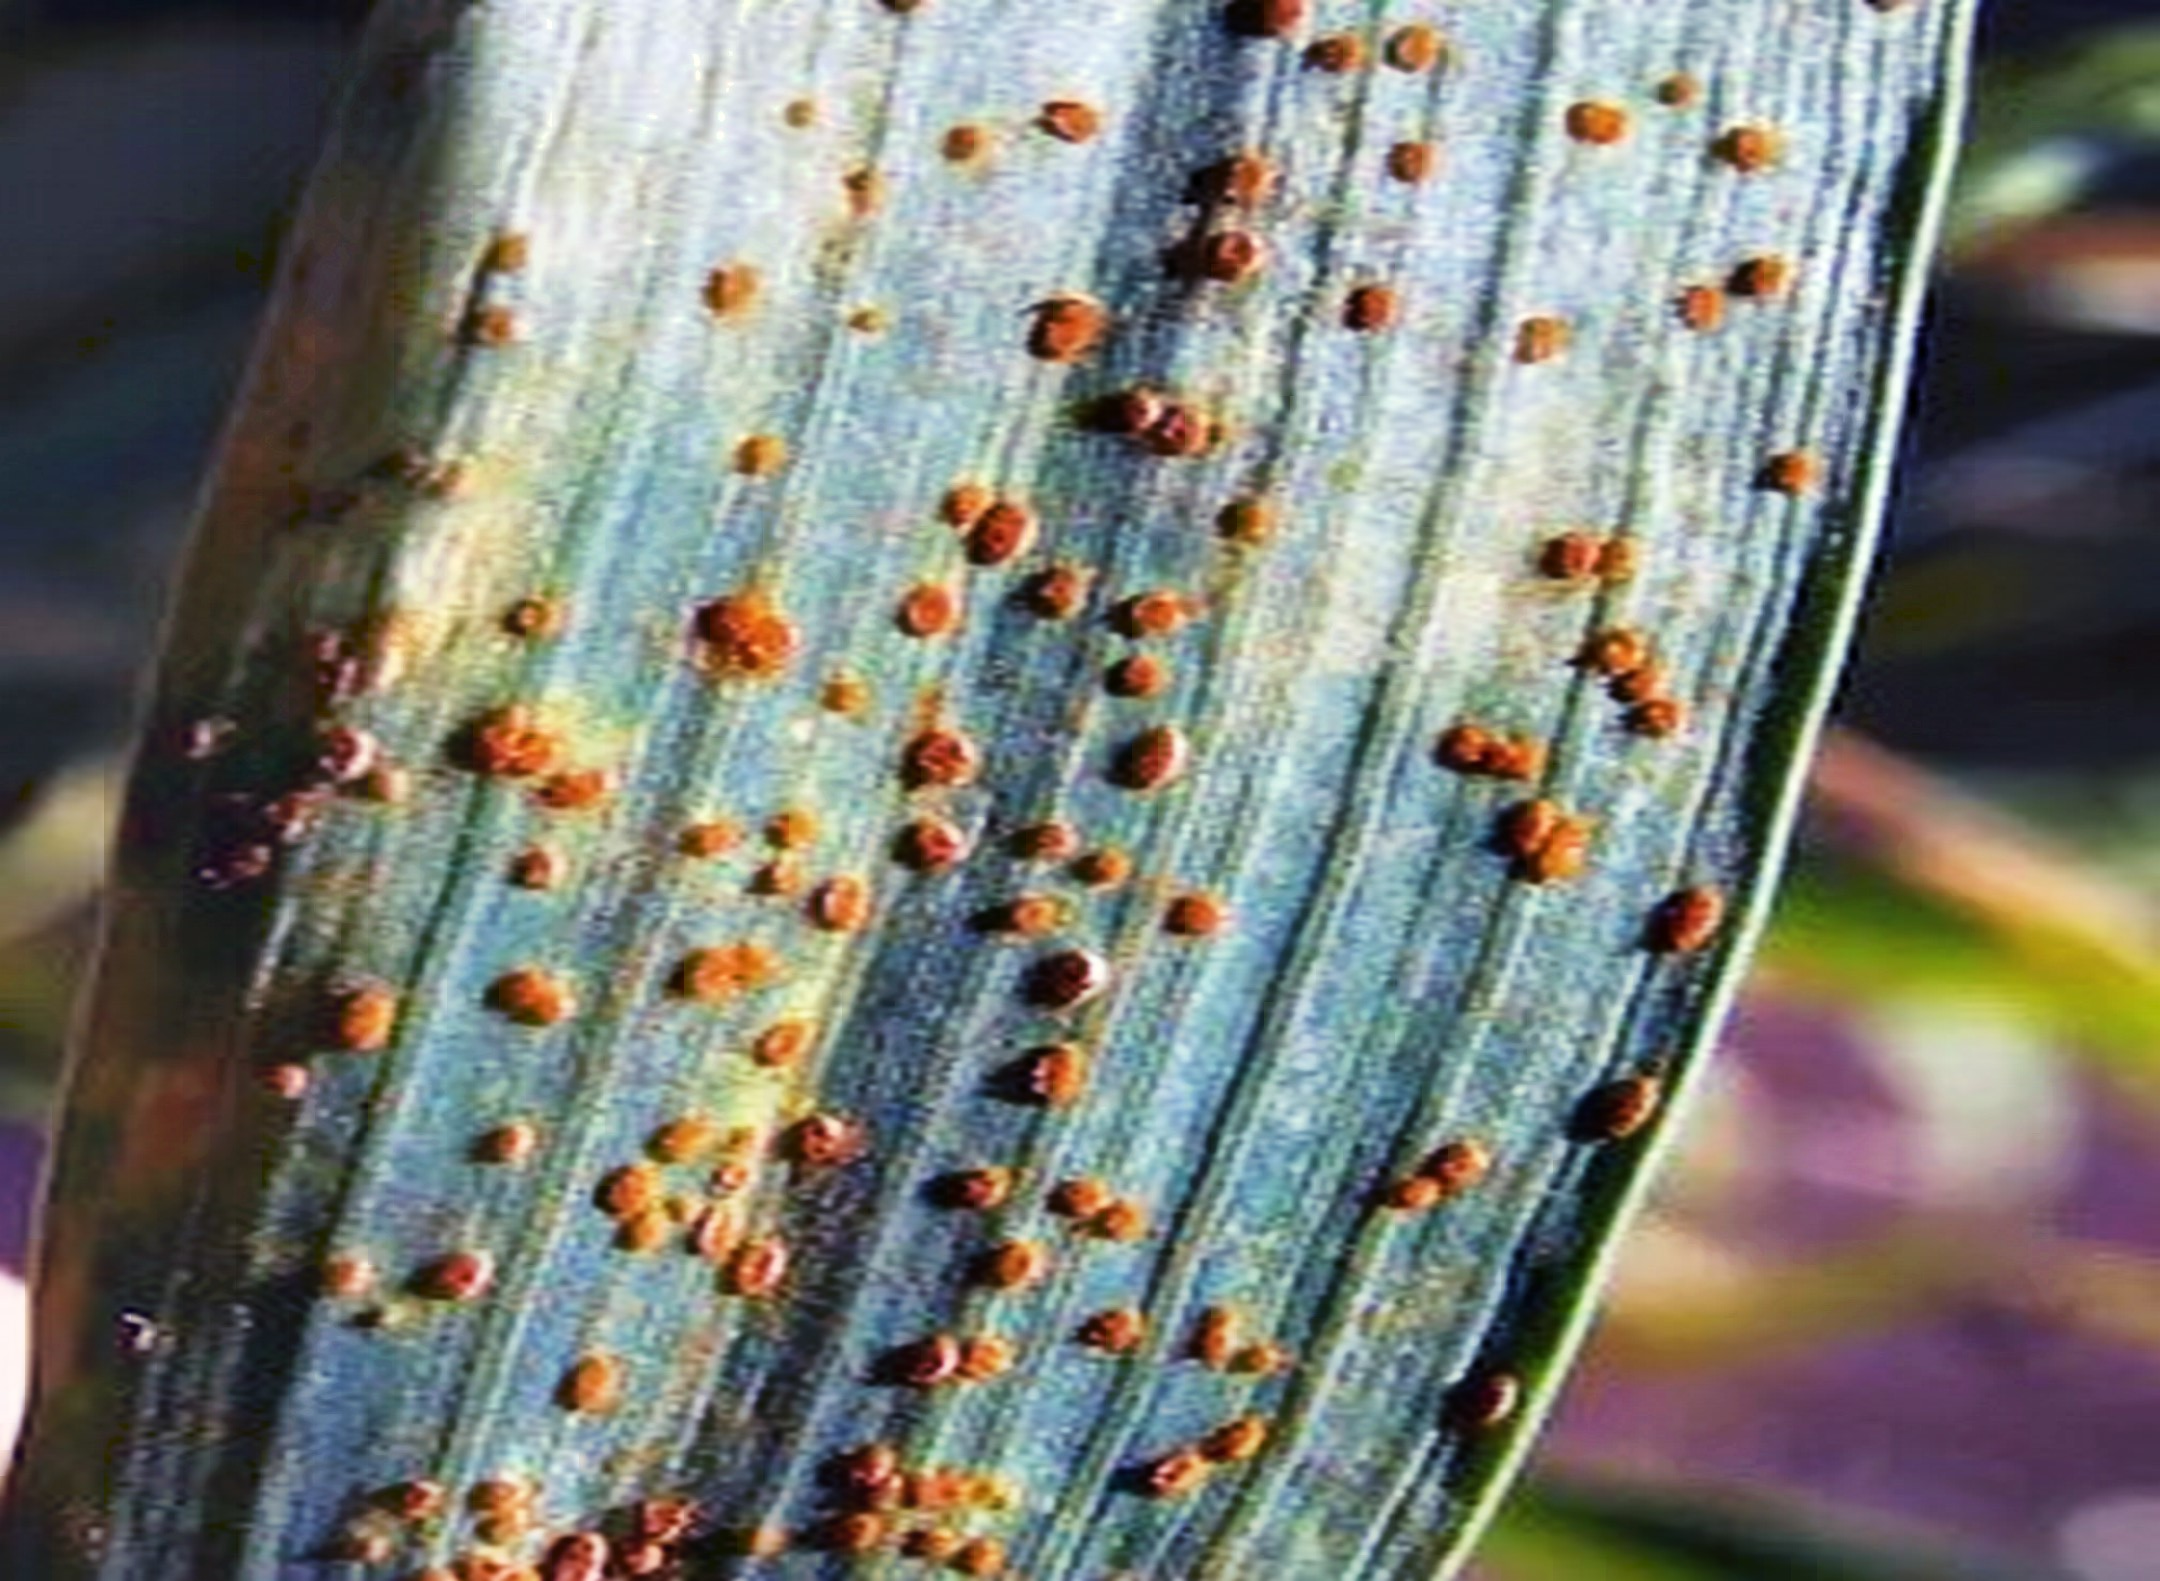Leaf Rust: (287, 75, 1845, 1516)
